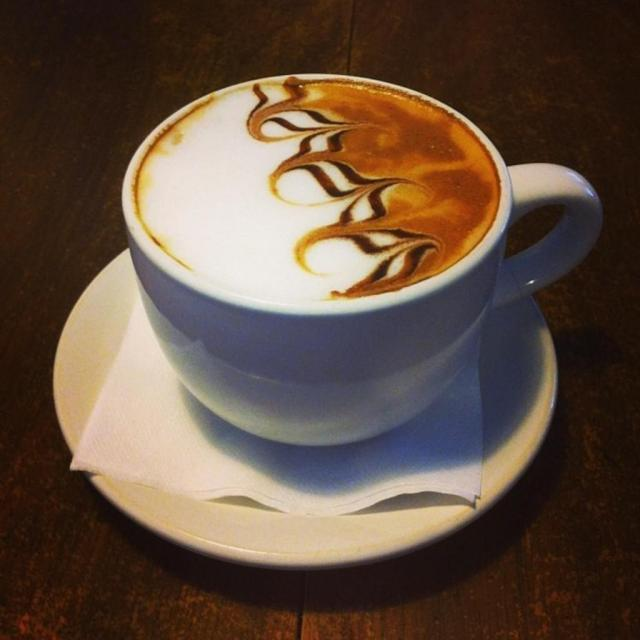cup-handle: (118, 69, 604, 449)
